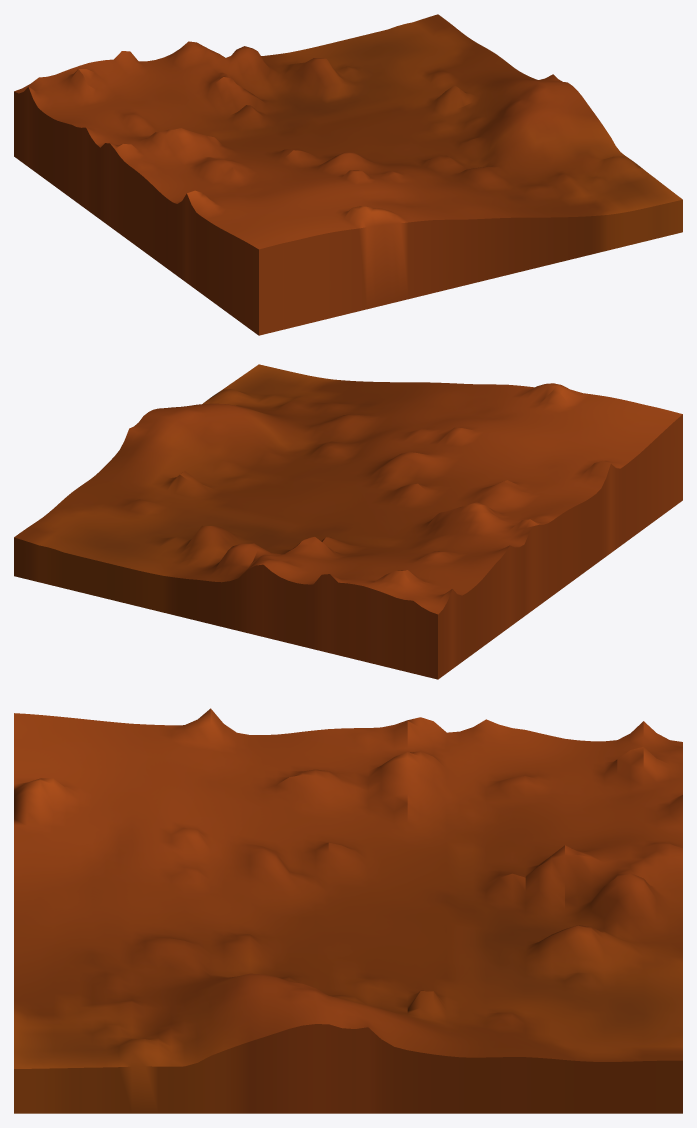
File: SM_BaseTerrain.fbx
The picture shows the model from 3 angles, top to bottom: view 1: azimuth 30°, elevation 25°; view 2: azimuth 150°, elevation 25°; view 3: azimuth 270°, elevation 25°; orthographic projection. The views are drawn at different scales.
Visible parts, largest first — view 1: SM_BaseTerrain; view 2: SM_BaseTerrain; view 3: SM_BaseTerrain.
Boxes of the visible parts, x1,y1,x2,y2 form: SM_BaseTerrain: [14, 14, 682, 335]; SM_BaseTerrain: [14, 364, 682, 679]; SM_BaseTerrain: [14, 708, 682, 1113].
Bounding box in the file's own units: 6800 × 1435 × 6800.
